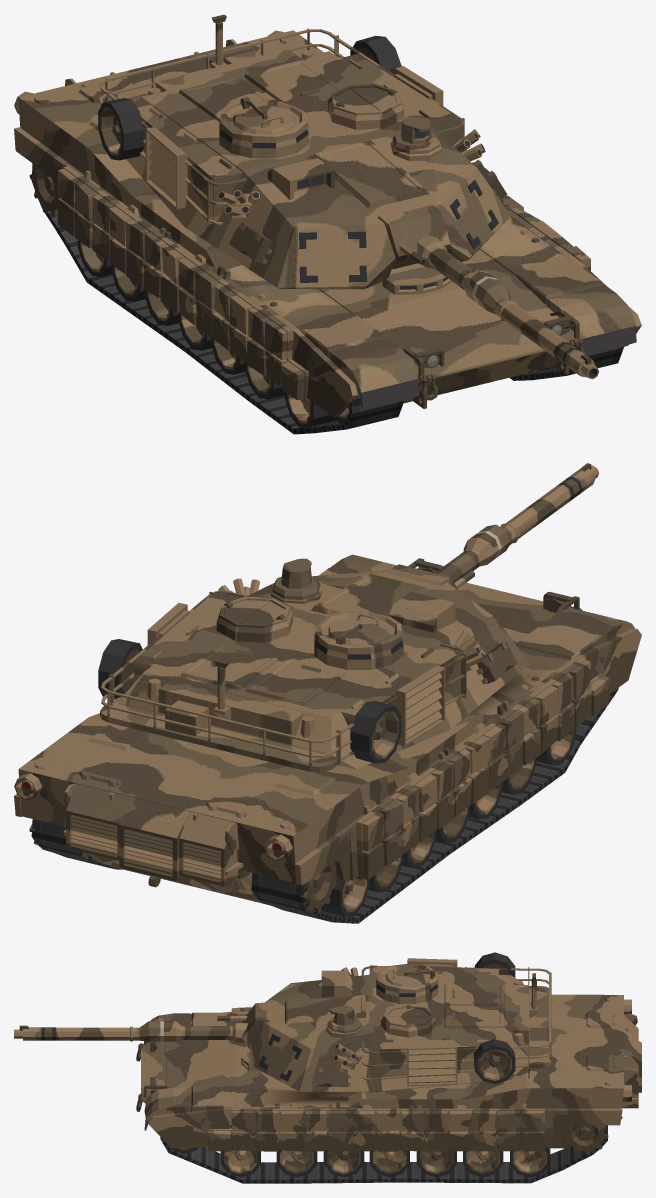
Rendered from m9-halberd.glb.
3 views of the same model, one above another, from view 1: azimuth 30°, elevation 25°; view 2: azimuth 150°, elevation 25°; view 3: azimuth 270°, elevation 25° (orthographic). The views are drawn at different scales.
Parts seen in each view (by area): view 1: SM_Veh_Tank_USA_Turret_01, SM_Veh_Tank_USA_01, SM_Veh_Tank_USA_ReactiveArmor_01, SM_Veh_Tank_USA_Turret_Barrel_01, SM_Veh_Tank_USA_Track_R, SM_Veh_Tank_USA_Turret_Hatch_01, SM_Veh_Tank_USA_Track_Wheel_R_02, SM_Veh_Tank_USA_Track_L, SM_Veh_Tank_USA_Track_Wheel_R_09, SM_Veh_Tank_USA_Track_Wheel_R_03, SM_Veh_Tank_USA_Track_Wheel_R_08, SM_Veh_Tank_USA_Track_Wheel_R_05 (+4 smaller); view 2: SM_Veh_Tank_USA_Turret_01, SM_Veh_Tank_USA_01, SM_Veh_Tank_USA_ReactiveArmor_01, SM_Veh_Tank_USA_Track_R, SM_Veh_Tank_USA_Turret_Barrel_01, SM_Veh_Tank_USA_Turret_Hatch_01, SM_Veh_Tank_USA_Track_Wheel_R_08, SM_Veh_Tank_USA_Track_L, SM_Veh_Tank_USA_Track_Wheel_R_09, SM_Veh_Tank_USA_Track_Wheel_R_02, SM_Veh_Tank_USA_Track_Wheel_R_03, SM_Veh_Tank_USA_Track_Wheel_R_07 (+3 smaller); view 3: SM_Veh_Tank_USA_Turret_01, SM_Veh_Tank_USA_01, SM_Veh_Tank_USA_ReactiveArmor_01, SM_Veh_Tank_USA_Track_L, SM_Veh_Tank_USA_Turret_Barrel_01, SM_Veh_Tank_USA_Track_Wheel_L_09, SM_Veh_Tank_USA_Track_Wheel_L_08, SM_Veh_Tank_USA_Track_Wheel_L_03, SM_Veh_Tank_USA_Track_Wheel_L_04, SM_Veh_Tank_USA_Track_Wheel_L_02, SM_Veh_Tank_USA_Track_Wheel_L_05, SM_Veh_Tank_USA_Track_Wheel_L_07 (+2 smaller).
Part boxes in pixels (bbox=[...]): SM_Veh_Tank_USA_Turret_01: bbox=[98, 14, 510, 289]; SM_Veh_Tank_USA_01: bbox=[14, 30, 641, 417]; SM_Veh_Tank_USA_ReactiveArmor_01: bbox=[58, 166, 590, 400]; SM_Veh_Tank_USA_Turret_Barrel_01: bbox=[378, 203, 599, 378]; SM_Veh_Tank_USA_Track_R: bbox=[31, 165, 404, 434]; SM_Veh_Tank_USA_Turret_Hatch_01: bbox=[233, 100, 295, 133]; SM_Veh_Tank_USA_Track_Wheel_R_02: bbox=[284, 392, 336, 427]; SM_Veh_Tank_USA_Track_L: bbox=[509, 346, 623, 380]; SM_Veh_Tank_USA_Track_Wheel_R_09: bbox=[29, 163, 57, 216]; SM_Veh_Tank_USA_Track_Wheel_R_03: bbox=[244, 361, 284, 399]; SM_Veh_Tank_USA_Track_Wheel_R_08: bbox=[77, 240, 111, 276]; SM_Veh_Tank_USA_Track_Wheel_R_05: bbox=[178, 312, 211, 350]; SM_Veh_Tank_USA_Turret_01: bbox=[98, 558, 529, 772]; SM_Veh_Tank_USA_01: bbox=[14, 554, 641, 904]; SM_Veh_Tank_USA_ReactiveArmor_01: bbox=[356, 657, 609, 879]; SM_Veh_Tank_USA_Track_R: bbox=[251, 688, 618, 923]; SM_Veh_Tank_USA_Turret_Barrel_01: bbox=[388, 463, 598, 589]; SM_Veh_Tank_USA_Turret_Hatch_01: bbox=[328, 614, 388, 645]; SM_Veh_Tank_USA_Track_Wheel_R_08: bbox=[321, 870, 369, 916]; SM_Veh_Tank_USA_Track_L: bbox=[31, 819, 122, 869]; SM_Veh_Tank_USA_Track_Wheel_R_09: bbox=[300, 862, 336, 913]; SM_Veh_Tank_USA_Track_Wheel_R_02: bbox=[536, 727, 576, 765]; SM_Veh_Tank_USA_Track_Wheel_R_03: bbox=[501, 758, 536, 794]; SM_Veh_Tank_USA_Track_Wheel_R_07: bbox=[368, 854, 402, 892]; SM_Veh_Tank_USA_Turret_01: bbox=[248, 952, 551, 1092]; SM_Veh_Tank_USA_01: bbox=[136, 994, 641, 1148]; SM_Veh_Tank_USA_ReactiveArmor_01: bbox=[207, 1007, 544, 1151]; SM_Veh_Tank_USA_Track_L: bbox=[160, 1125, 607, 1183]; SM_Veh_Tank_USA_Turret_Barrel_01: bbox=[14, 1002, 271, 1048]; SM_Veh_Tank_USA_Track_Wheel_L_09: bbox=[563, 1125, 608, 1154]; SM_Veh_Tank_USA_Track_Wheel_L_08: bbox=[510, 1147, 550, 1177]; SM_Veh_Tank_USA_Track_Wheel_L_03: bbox=[276, 1150, 317, 1177]; SM_Veh_Tank_USA_Track_Wheel_L_04: bbox=[323, 1150, 364, 1177]; SM_Veh_Tank_USA_Track_Wheel_L_02: bbox=[220, 1150, 260, 1177]; SM_Veh_Tank_USA_Track_Wheel_L_05: bbox=[369, 1150, 409, 1177]; SM_Veh_Tank_USA_Track_Wheel_L_07: bbox=[463, 1150, 503, 1177].
Bounding box in the file's own units: 4.04 × 2.83 × 9.98.
2 materials, 2 textured.
